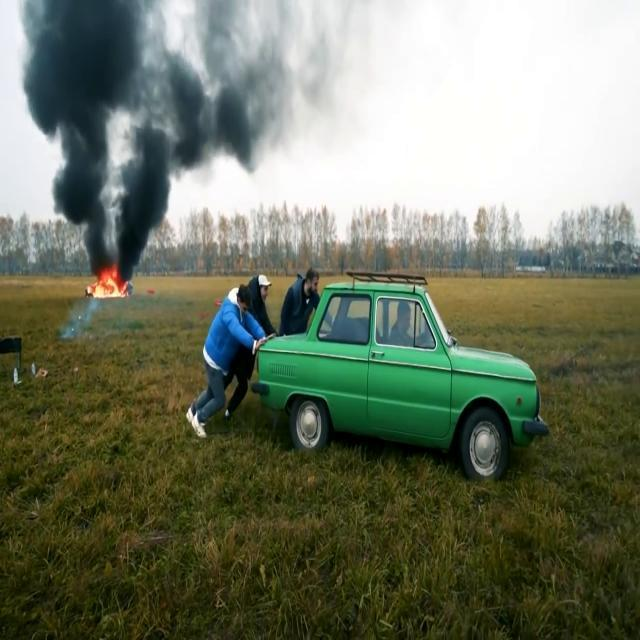Fire: (86, 264, 130, 302)
Smoke: (10, 0, 289, 258)
